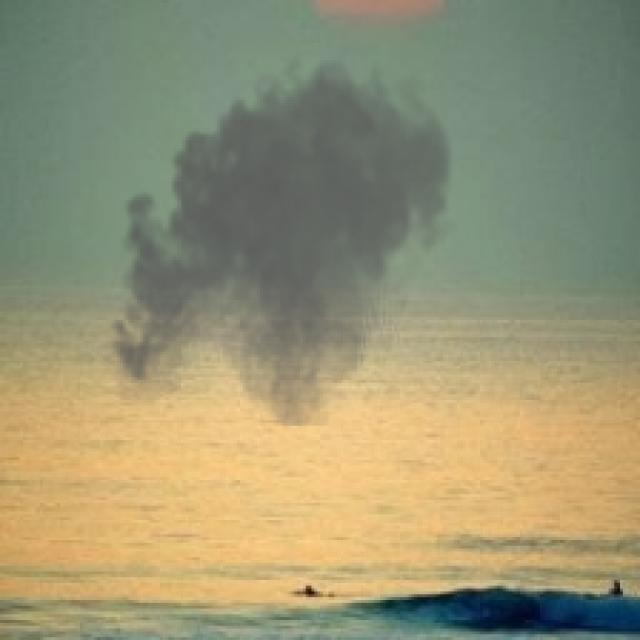Smoke: (100, 43, 460, 426)
